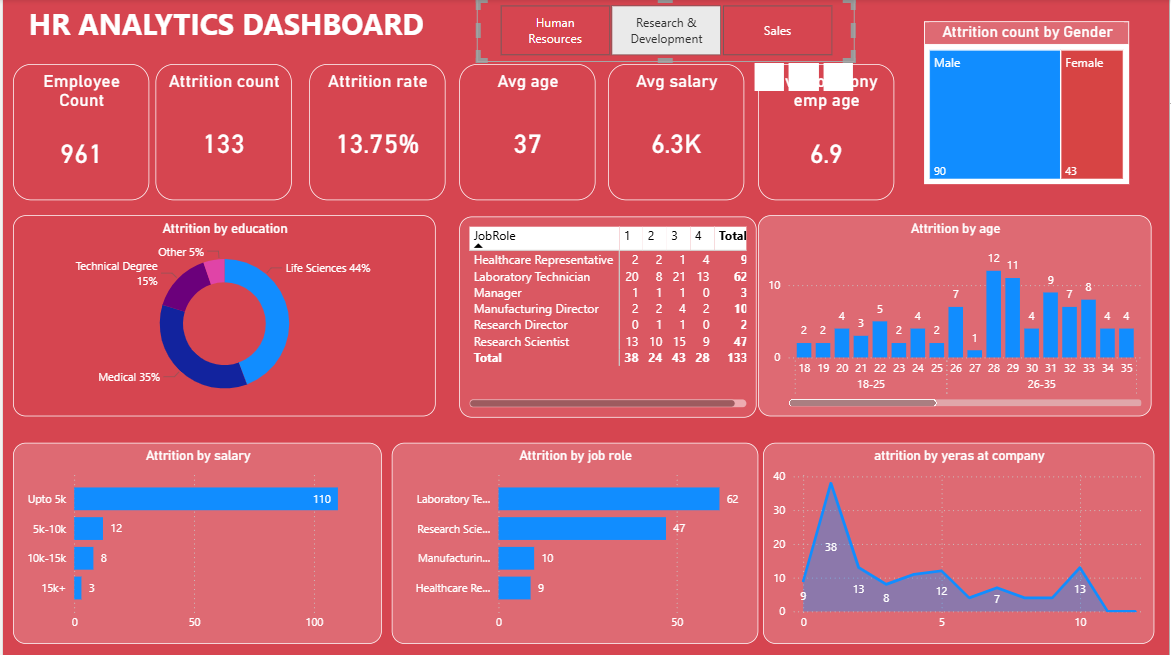

Layout of this report page (visuals, bound fields, positions):
{"tool":"powerbi","page":{"name":"Page 1","canvas":[1280,720],"ordinal":0},"visuals":[{"type":"card","title":"Employee Count","fields":{"Values":["Count(HR_Analytics.EmpID)"]},"box":[11,71.4,149.6,149.6],"z":0},{"type":"card","title":"Avg salary","fields":{"Values":["Avg(HR_Analytics.MonthlyIncome)"]},"box":[664.2,71.4,149.6,149.6],"z":1000},{"type":"card","title":"Attrition count","fields":{"Values":["Sum(HR_Analytics.Attrition count)"]},"box":[167.4,71.4,149.6,149.6],"z":2000},{"type":"card","title":"Avg age","fields":{"Values":["Avg(HR_Analytics.Age)"]},"box":[500.9,71.4,149.6,149.6],"z":3000},{"type":"card","title":"Attrition rate","fields":{"Values":["HR_Analytics.Attrition rate"]},"box":[336.2,71.4,149.6,149.6],"z":4000},{"type":"card","title":"avg comapny emp age","fields":{"Values":["Avg(HR_Analytics.YearsAtCompany)"]},"box":[828.8,71.4,149.6,149.6],"z":5000},{"type":"donutChart","title":"Attrition by education","fields":{"Category":["HR_Analytics.EducationField"],"Y":["Sum(HR_Analytics.Attrition count)"]},"box":[11,237.4,463.8,220.9],"z":6000},{"type":"columnChart","title":"Attrition by age","fields":{"Category":["HR_Analytics.AgeGroup","HR_Analytics.Age"],"Y":["Sum(HR_Analytics.Attrition count)"]},"box":[828.8,237.4,432.2,220.9],"z":7000},{"type":"pivotTable","fields":{"Rows":["HR_Analytics.JobRole"],"Columns":["HR_Analytics.JobSatisfaction"],"Values":["Sum(HR_Analytics.Attrition count)"]},"box":[487.4,237.7,326.9,220.8],"z":8000},{"type":"barChart","title":"Attrition by salary","fields":{"Category":["HR_Analytics.SalarySlab"],"Y":["Sum(HR_Analytics.Attrition count)"]},"box":[11,487.1,404.8,220.9],"z":9000},{"type":"barChart","title":"Attrition by job role","fields":{"Category":["HR_Analytics.JobRole"],"Y":["Sum(HR_Analytics.Attrition count)"]},"box":[426.8,487.1,402.1,220.9],"z":10000},{"type":"stackedAreaChart","title":"attrition by yeras at company","fields":{"Category":["HR_Analytics.YearsAtCompany"],"Y":["Sum(HR_Analytics.Attrition count)"]},"box":[834.3,487.1,429.5,220.9],"z":11000},{"type":"treemap","title":" Attrition count by Gender","fields":{"Group":["HR_Analytics.Gender"],"Values":["Sum(HR_Analytics.Attrition count)"]},"box":[1011.3,24.7,225,178.4],"z":12000},{"type":"slicer","fields":{"Values":["HR_Analytics.Department"]},"box":[520.1,0,414.4,68.6],"z":12001},{"type":"textbox","box":[23.3,0,463.3,58.3],"z":12002}]}

Visuals, with their boxes in screenshot pixels (x1, y1, x2, y2), scaled from the page's 1280x720 canvas onto the 1171x655 screenshot:
"Employee Count" card: box(10, 65, 147, 201)
"Avg salary" card: box(608, 65, 744, 201)
"Attrition count" card: box(153, 65, 290, 201)
"Avg age" card: box(458, 65, 595, 201)
"Attrition rate" card: box(308, 65, 444, 201)
"avg comapny emp age" card: box(758, 65, 895, 201)
"Attrition by education" donutChart: box(10, 216, 434, 417)
"Attrition by age" columnChart: box(758, 216, 1154, 417)
pivotTable - HR_Analytics.JobRole x HR_Analytics.JobSatisfaction: box(446, 216, 745, 417)
"Attrition by salary" barChart: box(10, 443, 380, 644)
"Attrition by job role" barChart: box(390, 443, 758, 644)
"attrition by yeras at company" stackedAreaChart: box(763, 443, 1156, 644)
" Attrition count by Gender" treemap: box(925, 22, 1131, 185)
slicer - HR_Analytics.Department: box(476, 0, 855, 62)
textbox: box(21, 0, 445, 53)
